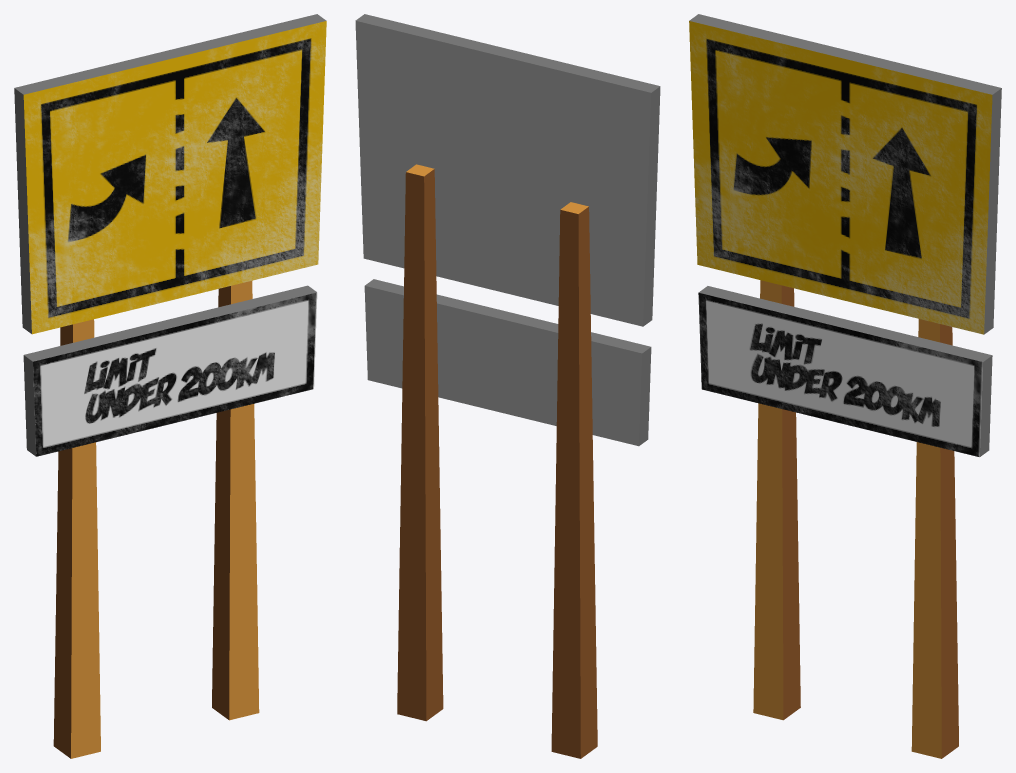
Rendered from 표지판4.fbx.
3 views of the same model, side by side, from view 1: azimuth 30°, elevation 25°; view 2: azimuth 150°, elevation 25°; view 3: azimuth 330°, elevation 25° (orthographic). The views are drawn at different scales.
Parts seen in each view (by area): view 1: 4; view 2: 4; view 3: 4.
Boxes of the visible parts, bbox=[...] form: 4: bbox=[14, 14, 326, 758]; 4: bbox=[355, 14, 660, 758]; 4: bbox=[689, 14, 1001, 758].
Bounding box in the file's own units: 778 × 1677 × 115.
Materials: 1 (1 with a texture image).
